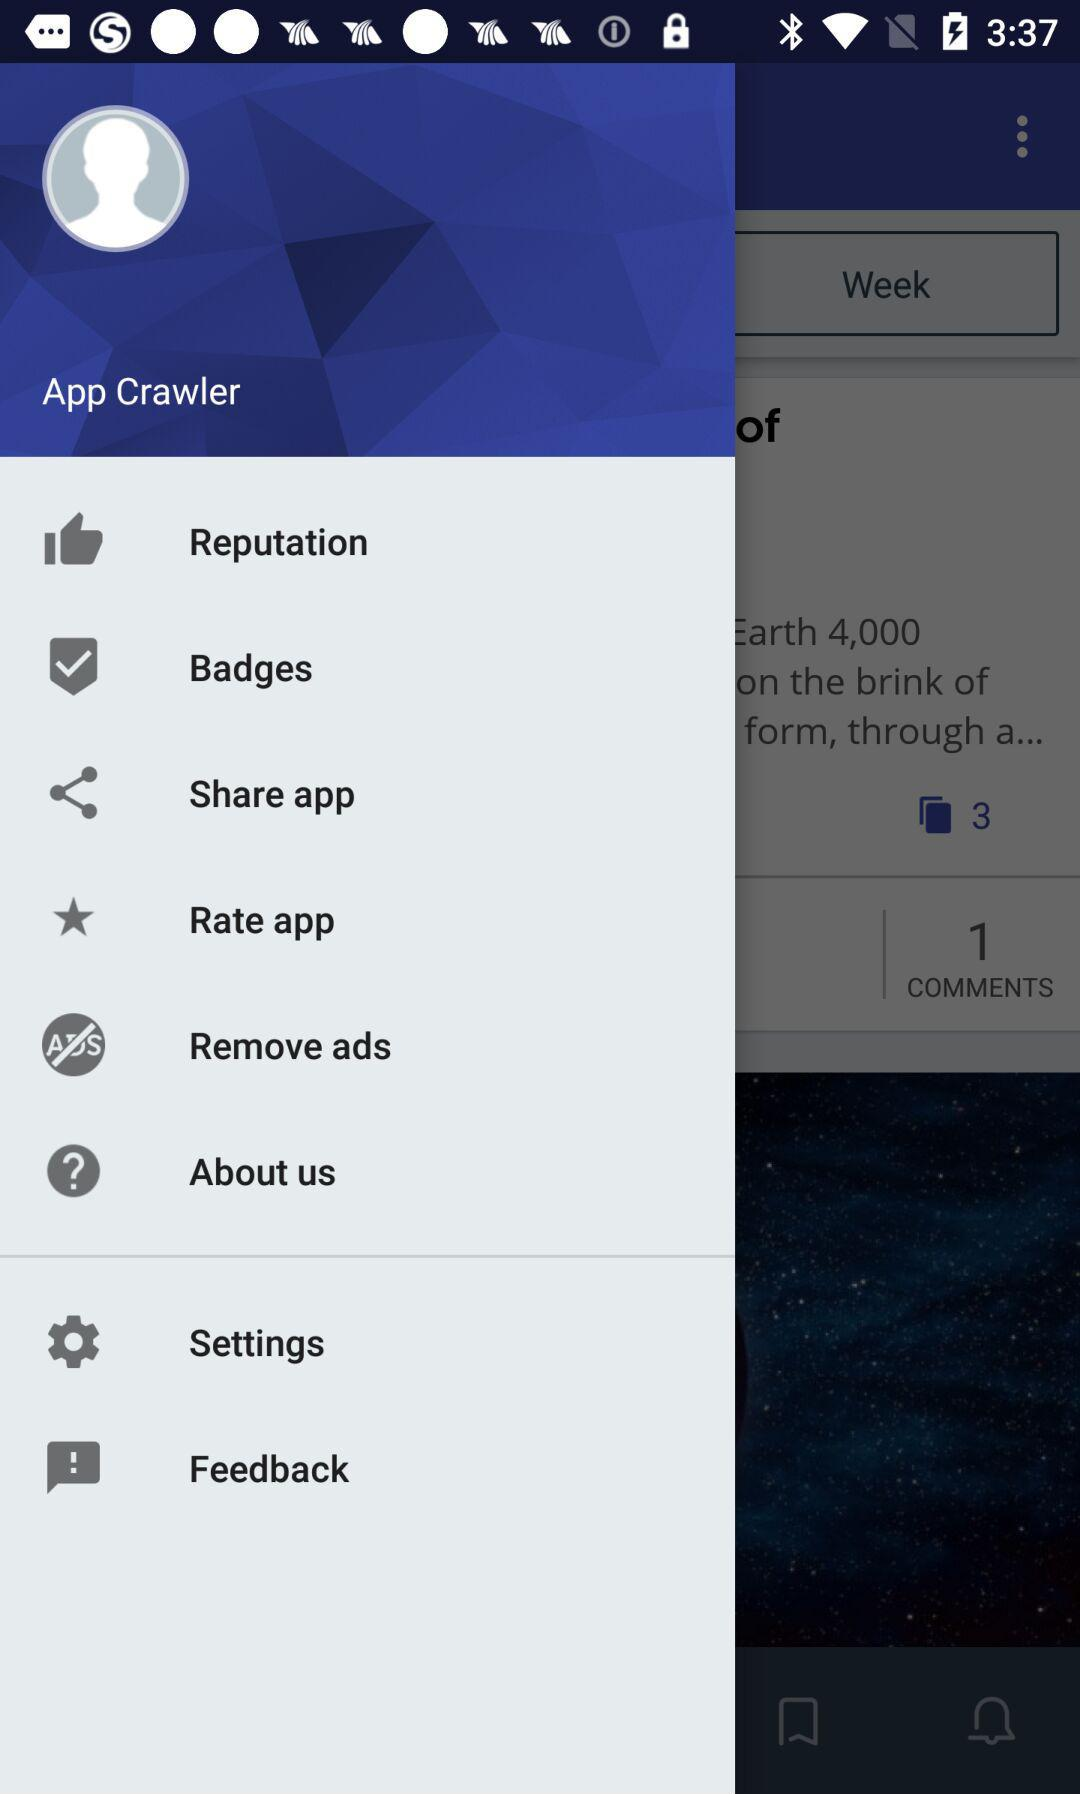Drawer: (1, 67, 735, 1794)
Icon: (42, 105, 191, 254), (47, 1440, 102, 1495), (47, 1144, 102, 1199), (47, 1313, 101, 1369), (50, 637, 99, 697), (50, 765, 99, 821), (53, 896, 96, 938)
Image: (42, 1012, 108, 1078), (44, 513, 105, 566)
Text: (42, 375, 242, 415), (190, 527, 369, 565), (190, 777, 356, 818), (191, 1030, 393, 1061), (190, 906, 336, 943), (190, 1328, 325, 1365), (190, 1453, 352, 1484), (190, 652, 314, 691), (190, 1156, 337, 1188)
UpperTaskBar: (1, 1, 1080, 64)
